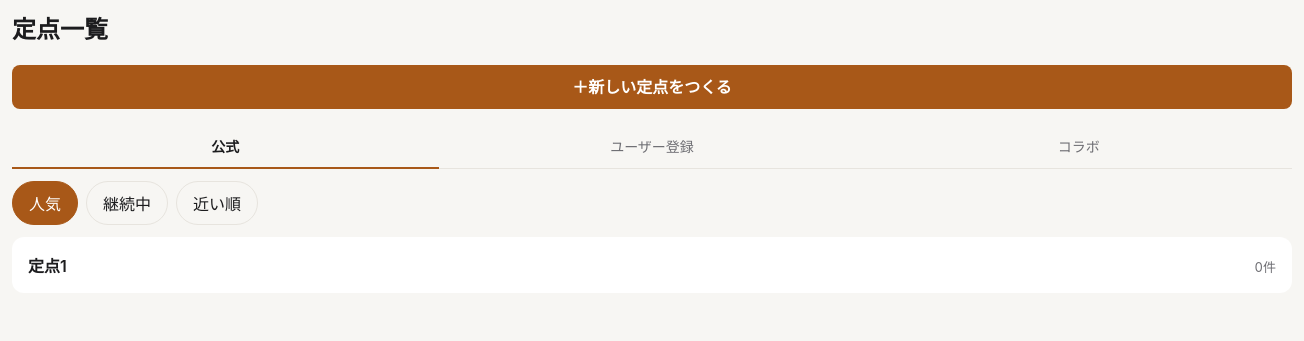
Test case: SpotsListPage › keeps the previous order and shows a loading message while location is being fetched
Click the button "近い順": (217, 203) [176, 181, 258, 225]
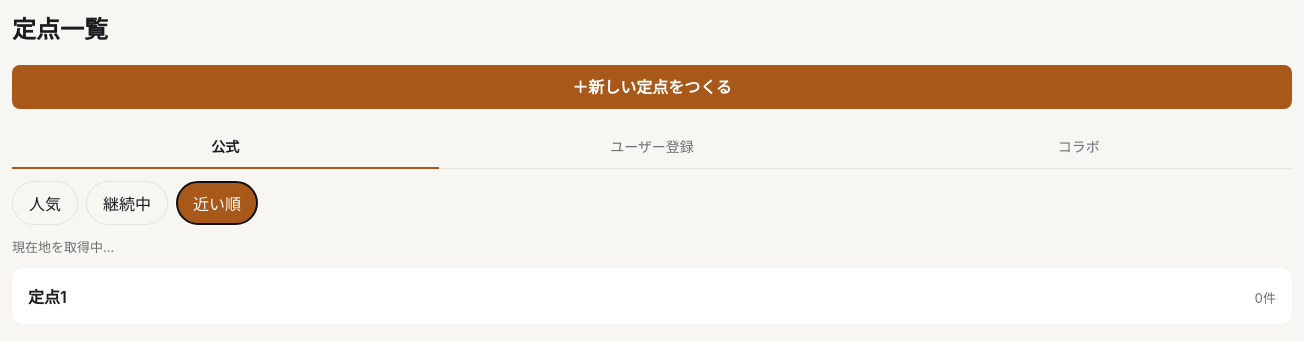
Check: the link "定点1 0件" is shown, box [12, 268, 1292, 324]
Check: the text "現在地を取得中…" is shown, box [12, 239, 114, 255]
